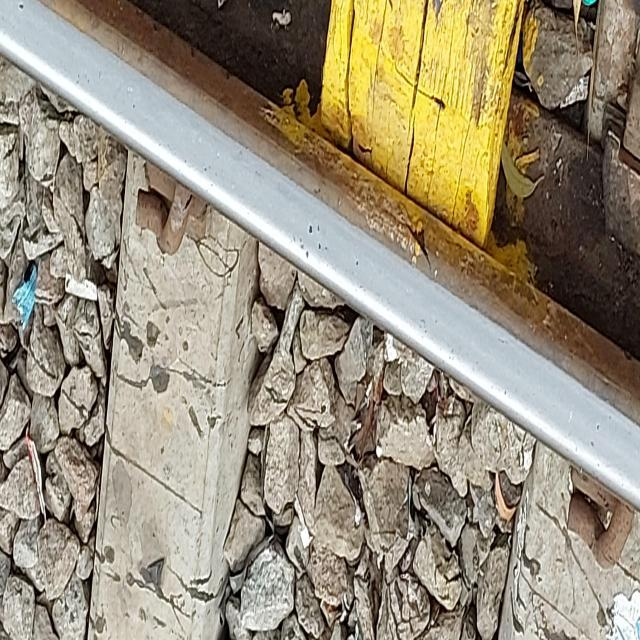squats_high: (298, 221, 322, 259)
